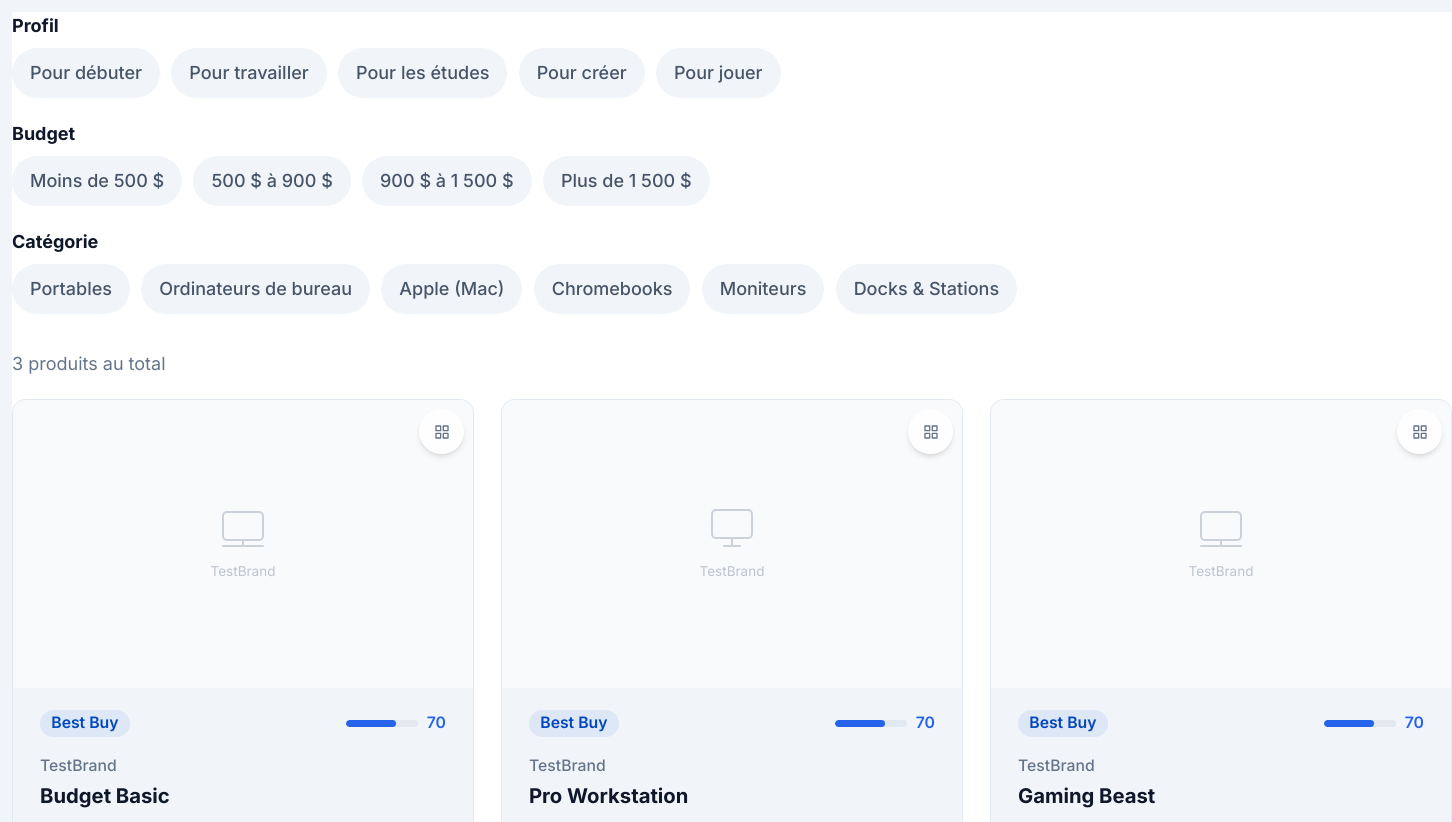
Test: CatalogueFilters › shows empty state when no products match filters
Click the button "Pour créer" at (582, 73), box [519,48,645,98]
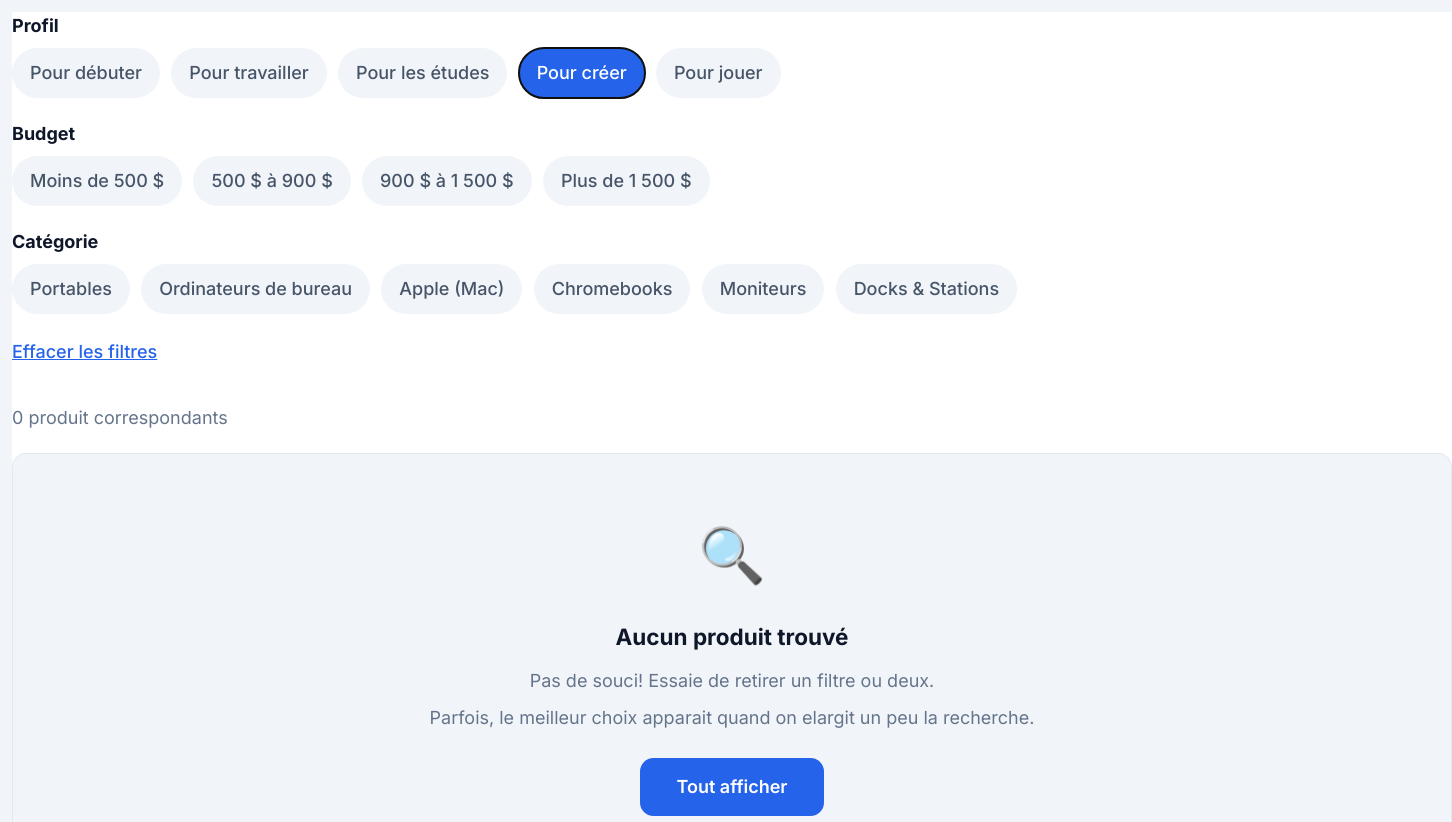
Result: the text "Aucun produit trouvé" is shown at [616,622,848,650]
